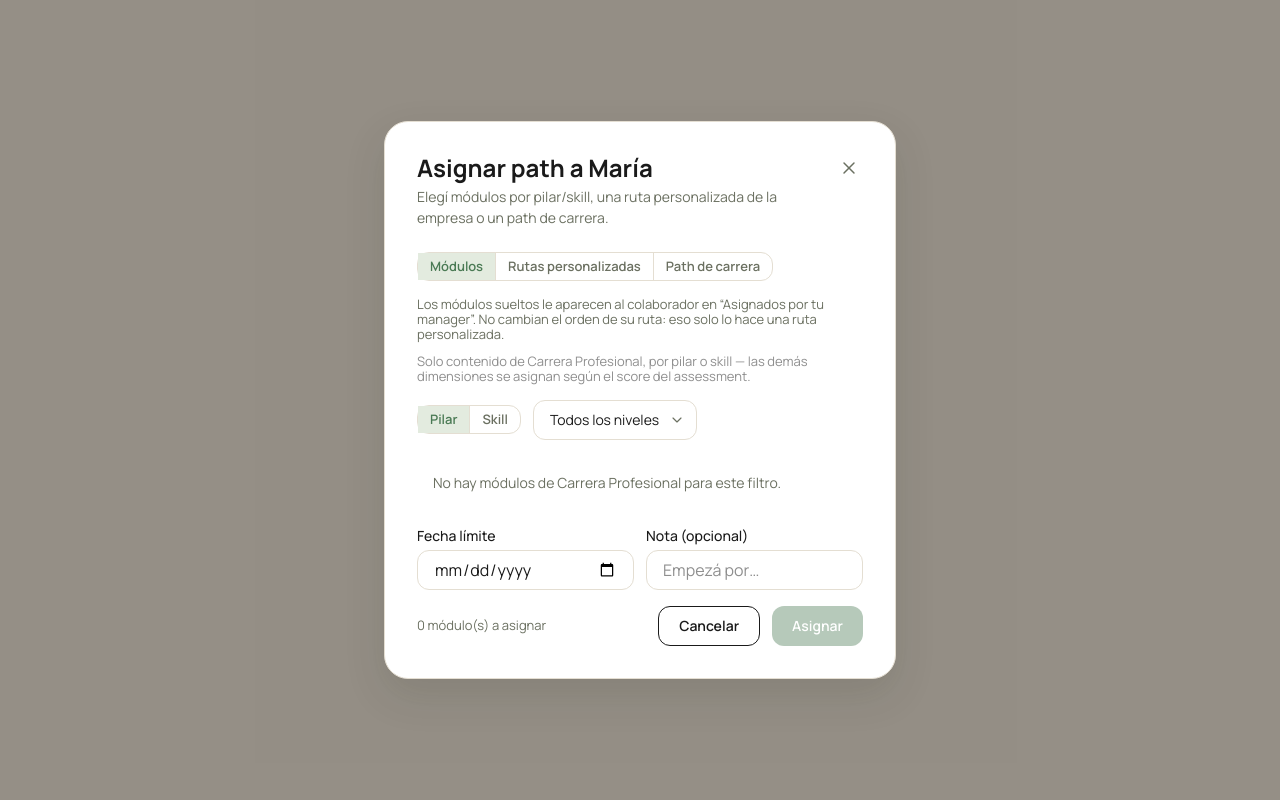
Test: AssignPathDialog › disables career paths the user is already enrolled in
The image size is (1280, 800).
Click the tab "Path de carrera": (712,266) [653,253,772,280]
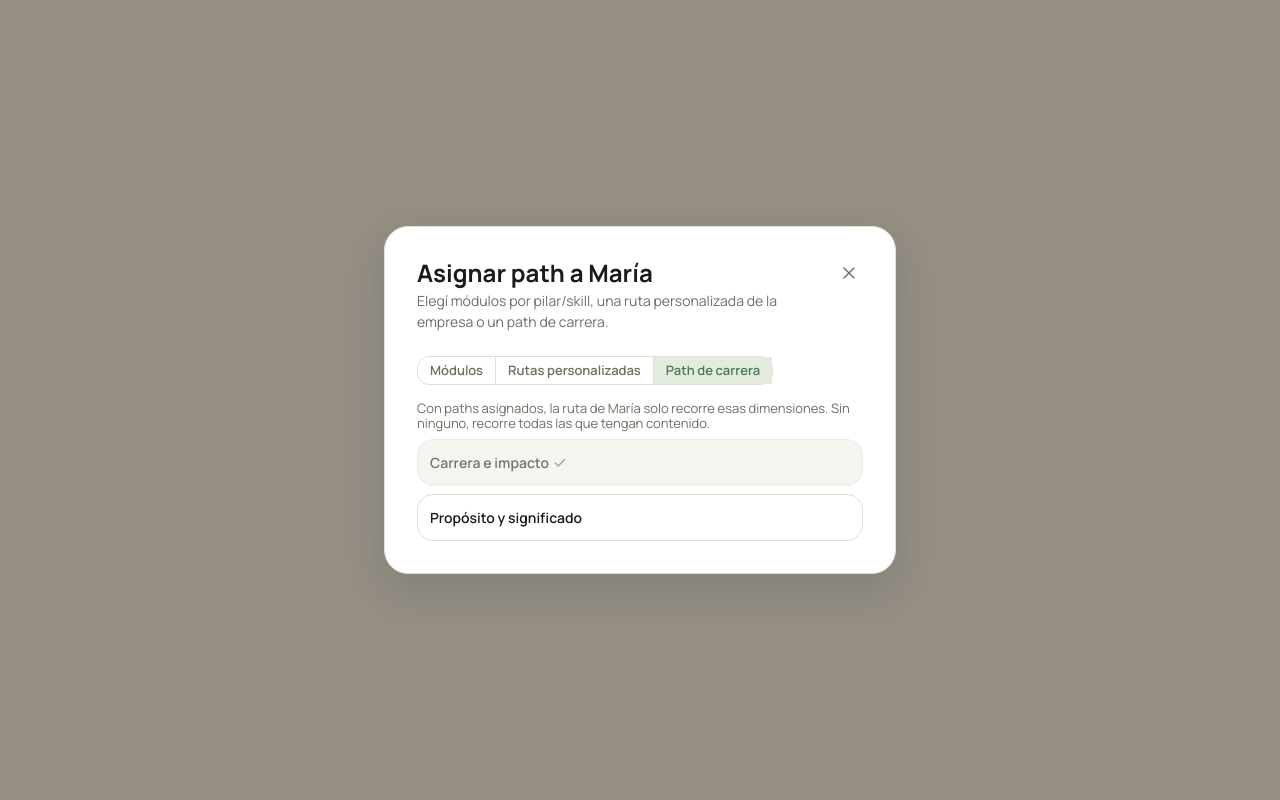
Now the text "Carrera e impacto" is shown, box [430,453,567,472]
Now the button "Carrera e impacto" is disabled, box [417,439,863,486]
Now the button "Propósito y significado" is enabled, box [417,494,863,541]
